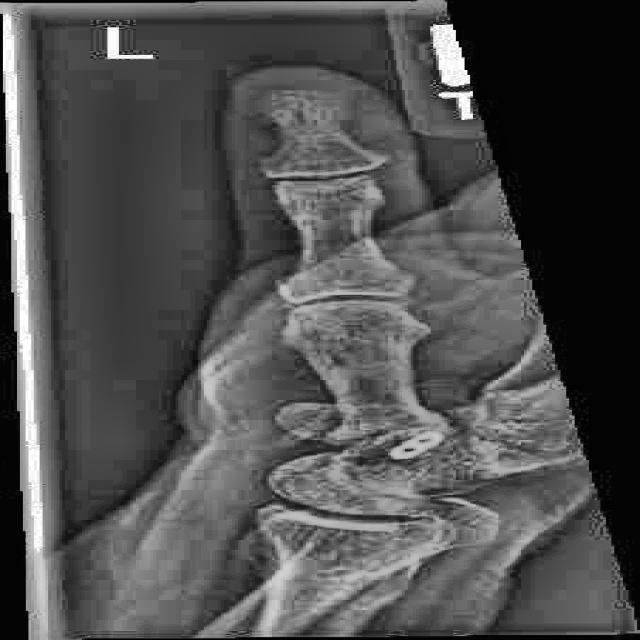fingers positive: (274, 392, 473, 459)
